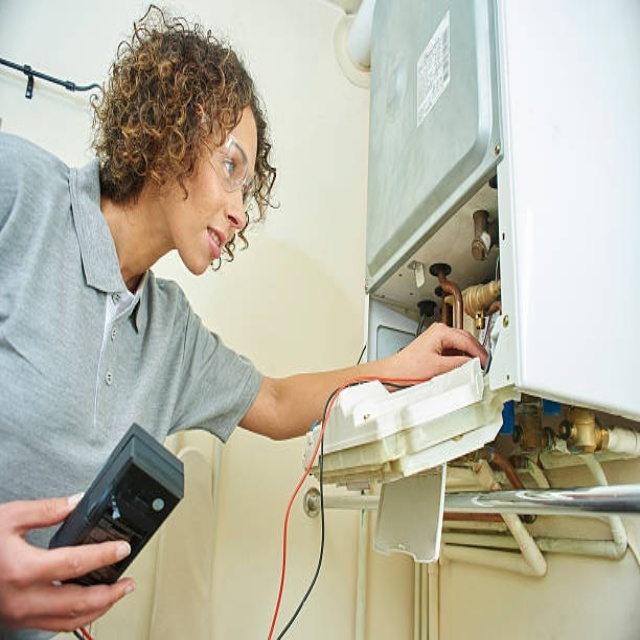Gafas: (203, 132, 253, 198)
Sin_guantes: (0, 490, 136, 635), (386, 323, 490, 388)
Sin_mascara: (190, 213, 233, 275)
